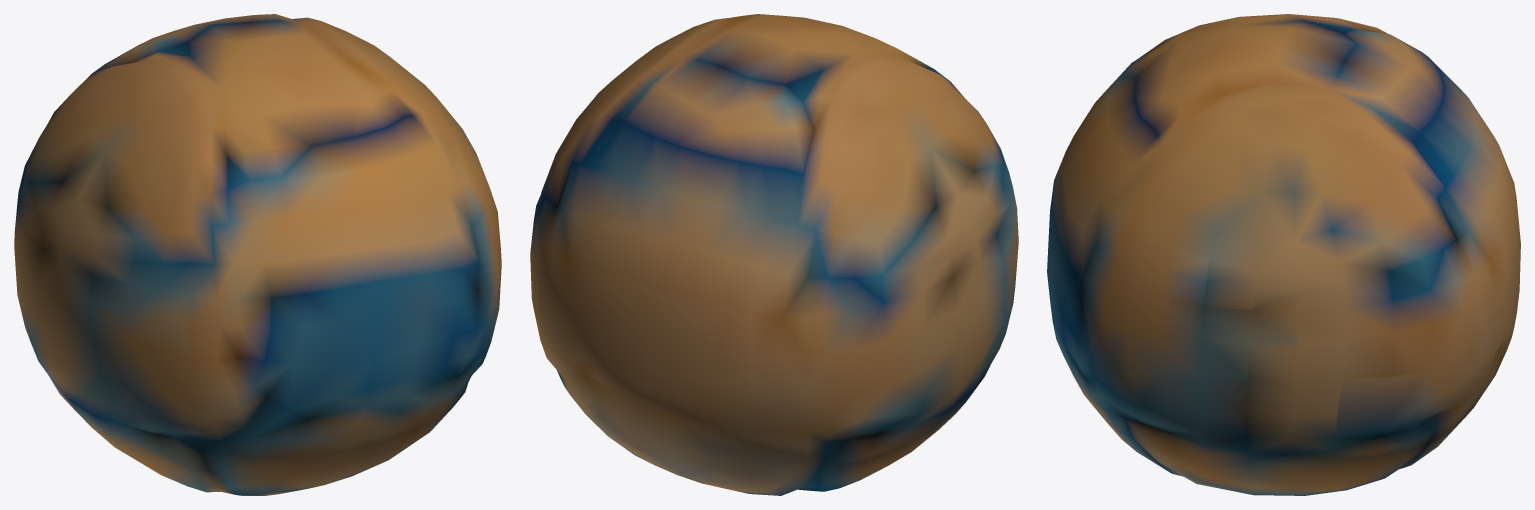
File: 08-6493342-vertex.glb
The picture shows the model from 3 angles, left to right: view 1: azimuth 30°, elevation 25°; view 2: azimuth 150°, elevation 25°; view 3: azimuth 270°, elevation 25°; orthographic projection.
Visible parts, largest first — view 1: Retopo_neural_node_e156a8ee-965c-48e3-8692-111dce150b2b; view 2: Retopo_neural_node_e156a8ee-965c-48e3-8692-111dce150b2b; view 3: Retopo_neural_node_e156a8ee-965c-48e3-8692-111dce150b2b.
Boxes of the visible parts, left/top/right/bottom form: Retopo_neural_node_e156a8ee-965c-48e3-8692-111dce150b2b: left=14, top=14, right=501, bottom=495; Retopo_neural_node_e156a8ee-965c-48e3-8692-111dce150b2b: left=530, top=14, right=1018, bottom=495; Retopo_neural_node_e156a8ee-965c-48e3-8692-111dce150b2b: left=1047, top=14, right=1520, bottom=495.
Bounding box in the file's own units: 0.4842 × 0.4856 × 0.4851.
